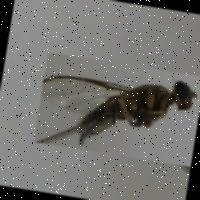Oriental-fruit-fly: (33, 52, 200, 167)
